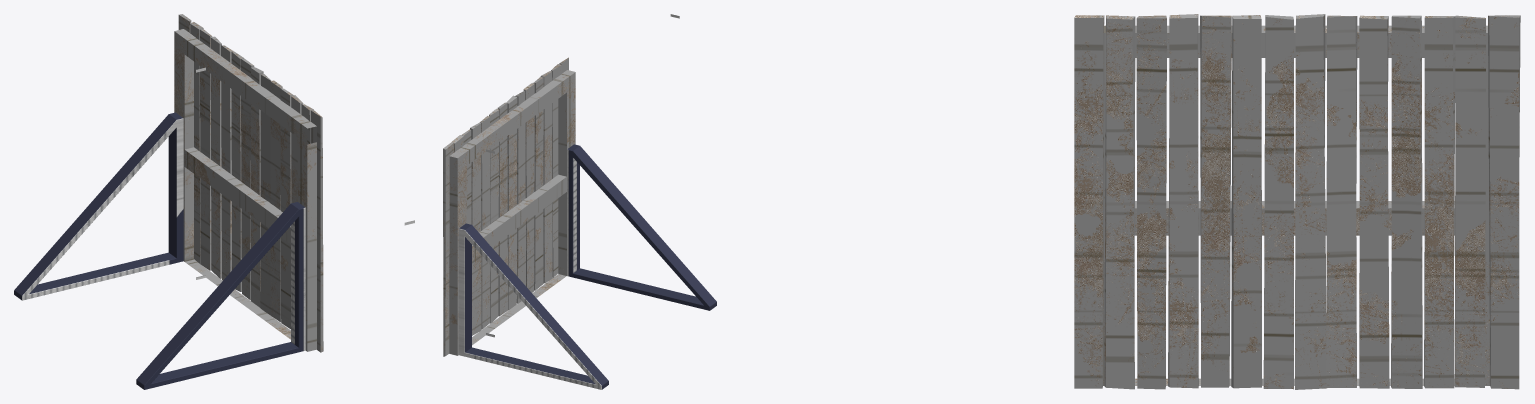
The model's file is Gate Wall.fbx.
3 renders of one model, left to right at view 1: azimuth 30°, elevation 25°; view 2: azimuth 150°, elevation 25°; view 3: azimuth 270°, elevation 25°, orthographic. The views are drawn at different scales.
Parts seen in each view (by area): view 1: Cube.111; view 2: Cube.111; view 3: Cube.111.
Boxes of the visible parts, <box> form: Cube.111: <box>14,14,414,389</box>; Cube.111: <box>443,14,716,389</box>; Cube.111: <box>1074,14,1520,389</box>.
Size of the model in its own units: 246 by 318 by 597.
